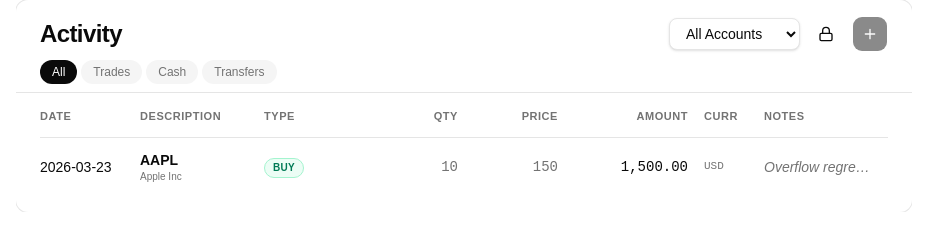
Test: ActivityPage › keeps non-empty transaction history constrained on mobile when edit mode is unlocked
Step 1. Click the button named "unlock edit mode" → (826, 34), box [808,16,844,52]
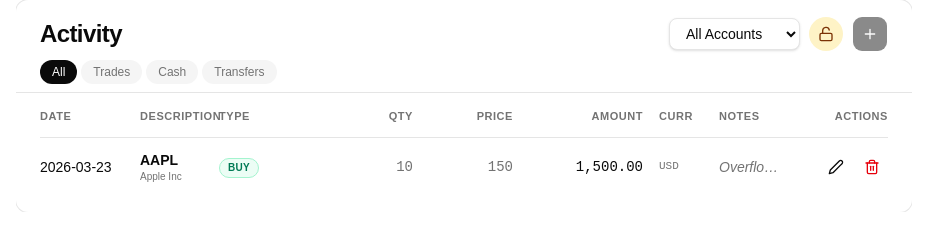
Expected: the text "Activity" is shown, [40,20,122,47]
Now the column heading "Actions" is shown, box [798,109,888,137]
